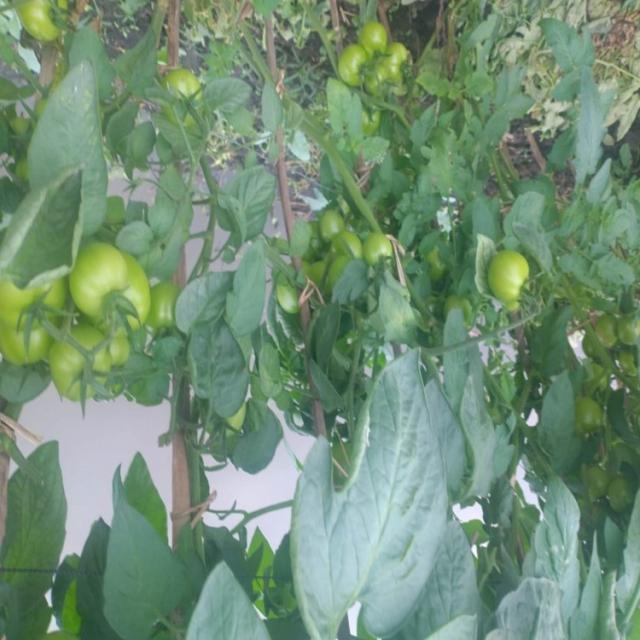tomato: (64, 237, 167, 338), (1, 266, 66, 373), (45, 319, 112, 414), (472, 241, 532, 318), (298, 234, 359, 293), (329, 43, 380, 97), (170, 74, 217, 131), (356, 19, 399, 78), (22, 1, 80, 44), (575, 452, 615, 500), (596, 315, 640, 355), (384, 42, 416, 89), (361, 225, 398, 265), (609, 473, 636, 516), (575, 396, 604, 427)
